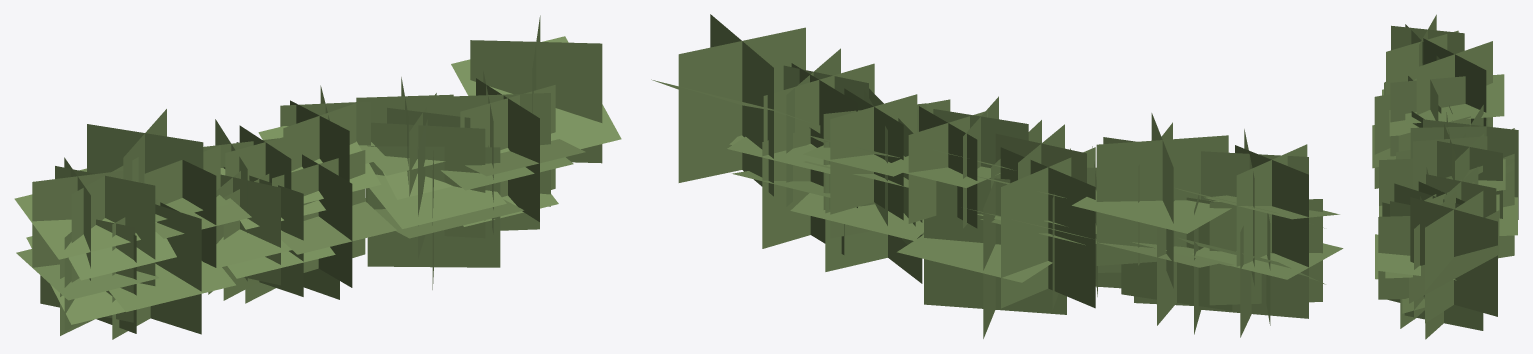
Rendered from hedge.glb.
3 renders of one model, left to right at view 1: azimuth 30°, elevation 25°; view 2: azimuth 150°, elevation 25°; view 3: azimuth 270°, elevation 25°, orthographic. The views are drawn at different scales.
Parts seen in each view (by area): view 1: hedge; view 2: hedge; view 3: hedge.
Boxes of the visible parts, <box> form: hedge: <box>14,15,621,339</box>; hedge: <box>651,14,1343,338</box>; hedge: <box>1372,14,1518,339</box>.
Bounding box in the file's own units: 10.81 × 3.42 × 3.
